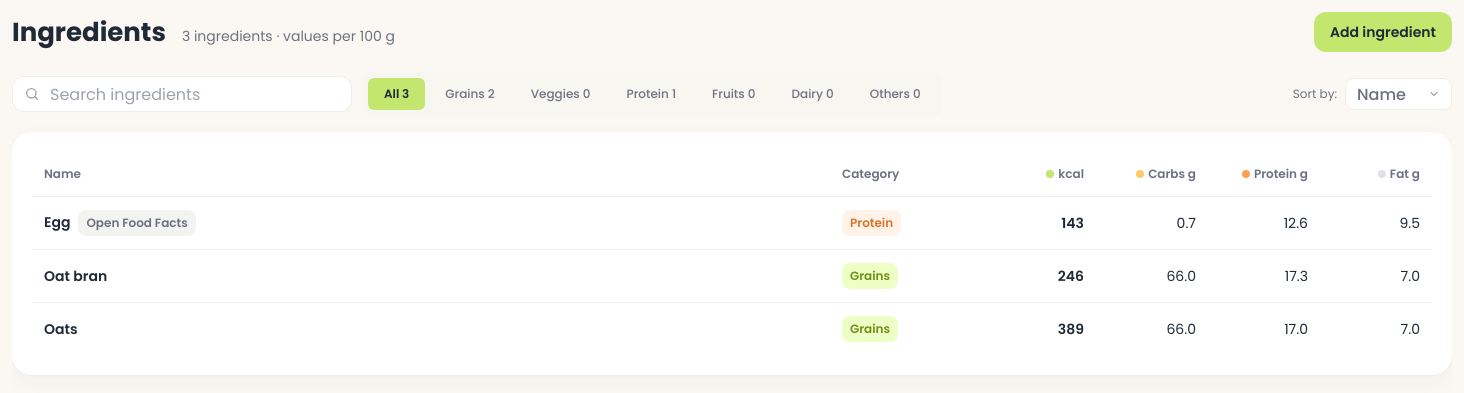
Test case: IngredientsPage /ingredients (list) › AC-12: search narrows the rows by name, ignoring case, and says when nothing matches
The width and height of the screenshot is (1464, 393).
expect the link "Oats" is shown: met, box [44,318,78,338]
Type "OAT" into the search field labelled "Search ingredients".
click(194, 94); type("OAT")  # box [48,80,340,108]
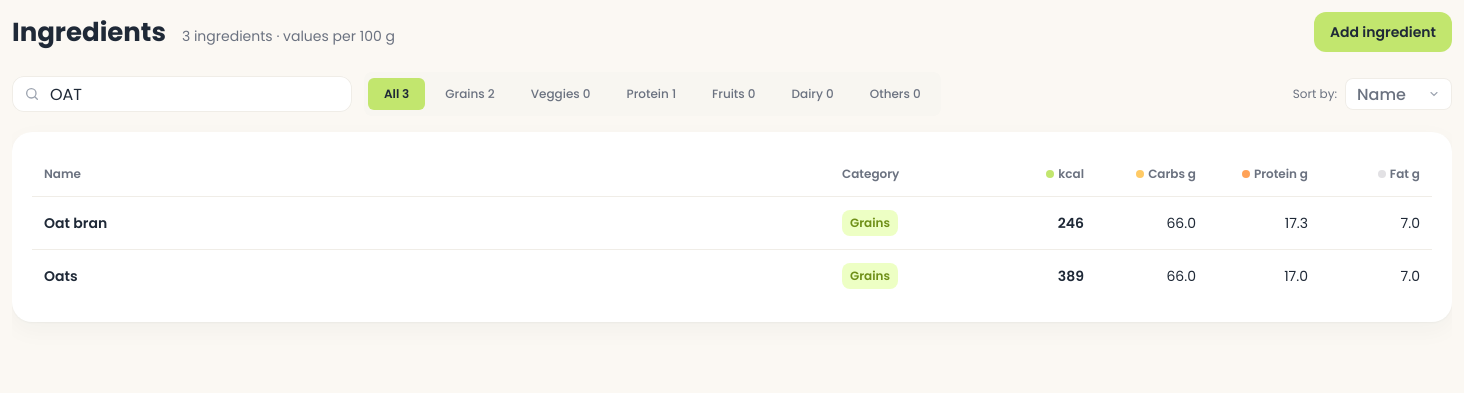
Replace the text in the search field named "Search ingredients" with "pizza" at (194,94), box [48,80,340,108]
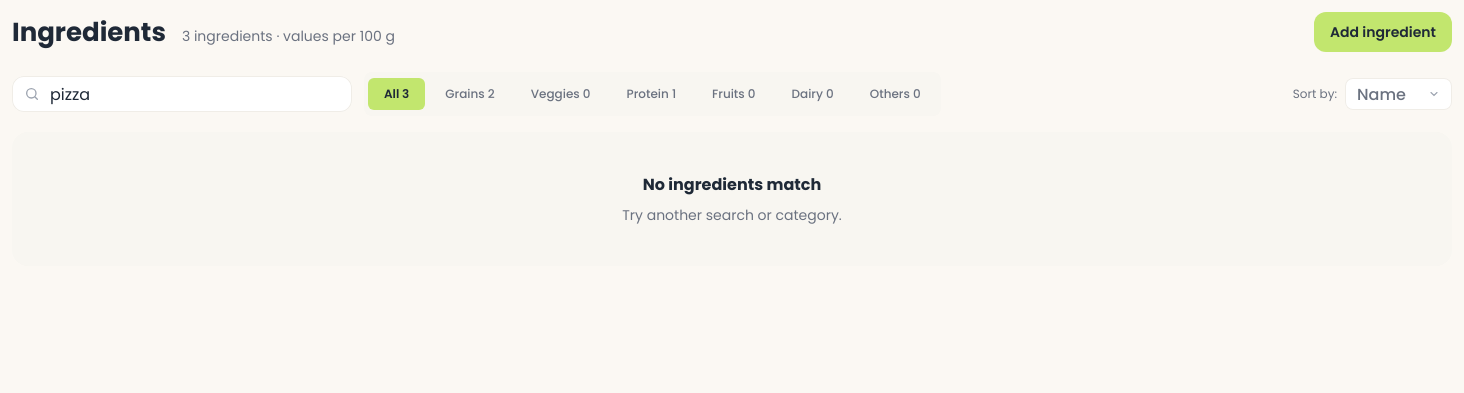
expect the text "No ingredients match" is shown: met, box [643,172,821,197]
expect the table is gone: met
